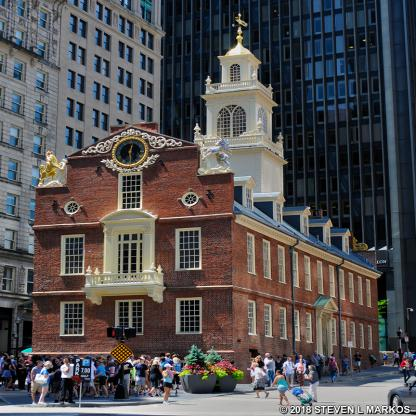State House: (15, 11, 399, 404)
